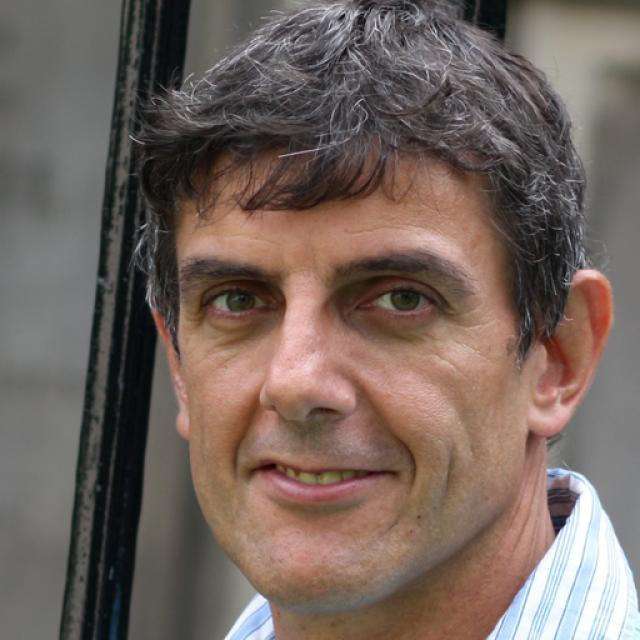content: (178, 167, 526, 605)
